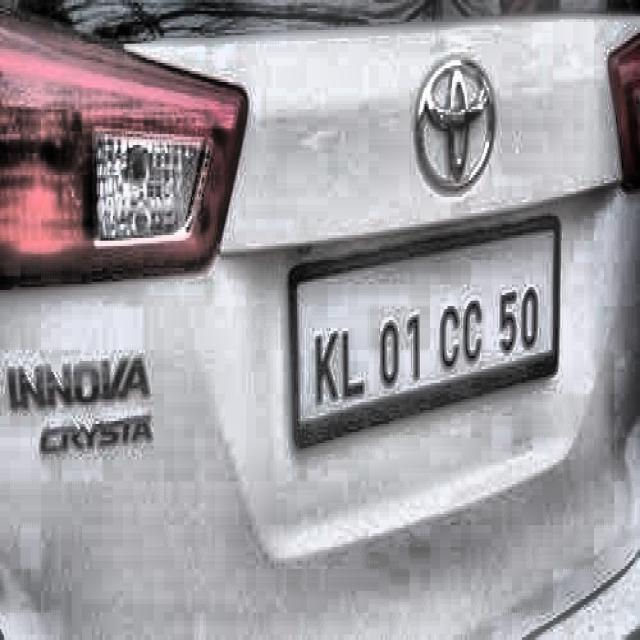license_plate: (297, 267, 542, 407)
